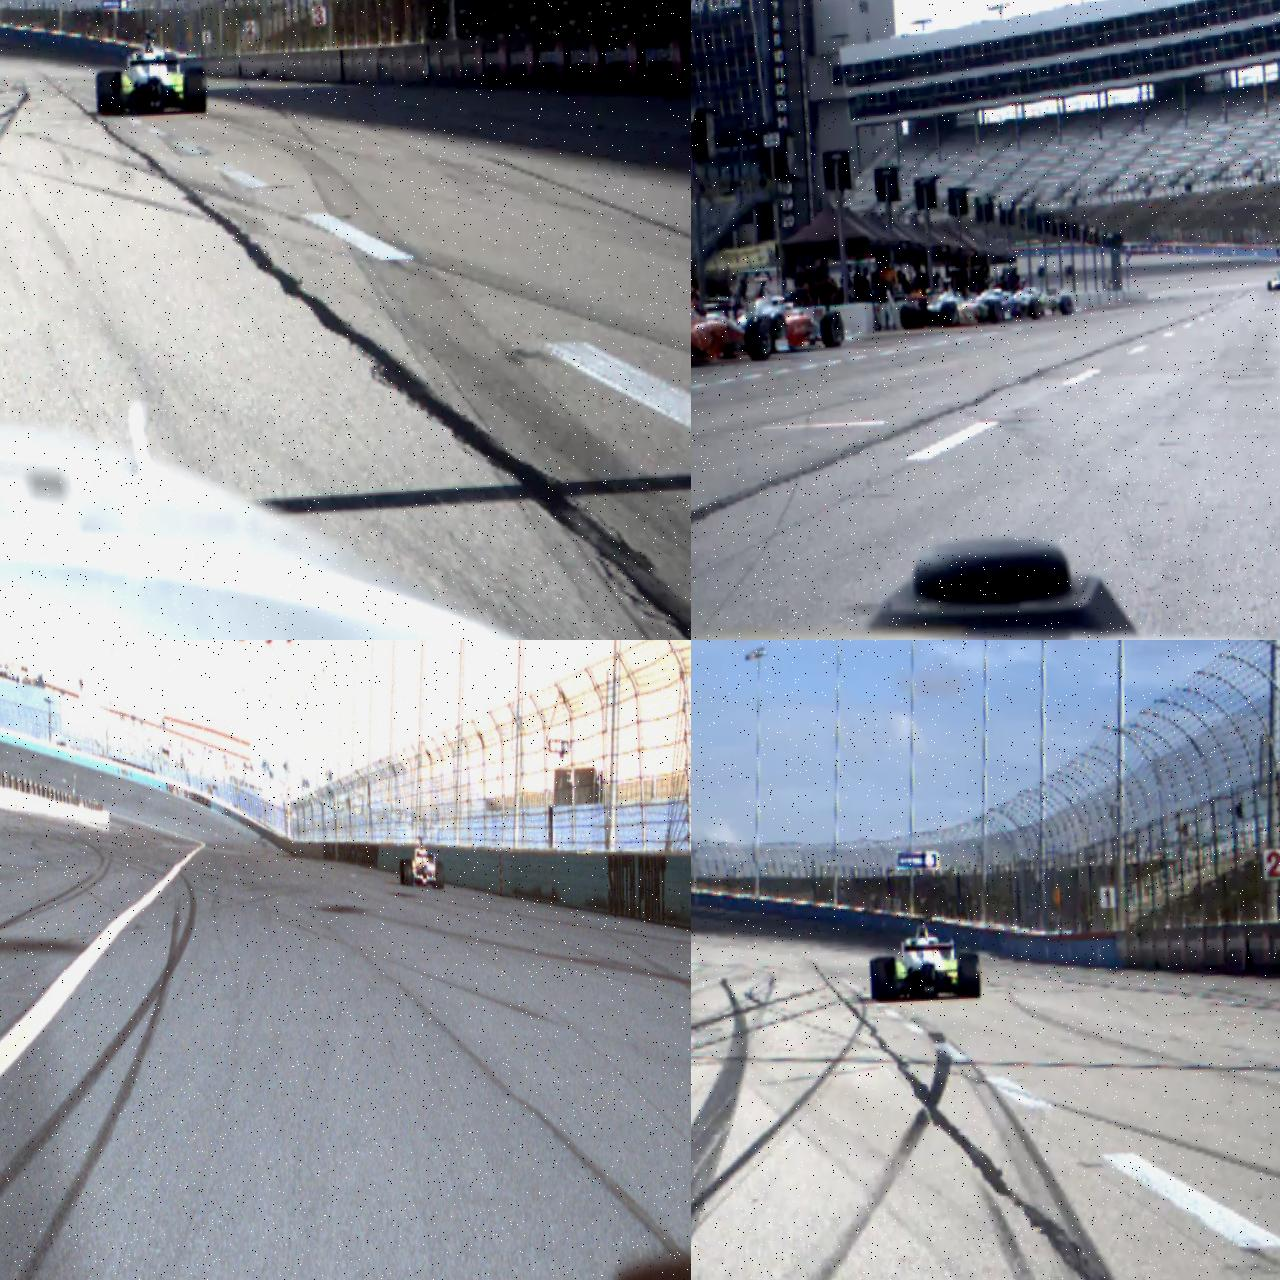AV: (91, 26, 207, 118), (867, 914, 981, 1005), (898, 273, 1005, 331), (397, 835, 444, 891), (1265, 268, 1280, 291)
Wheel: (745, 314, 776, 361), (869, 956, 898, 1003), (95, 70, 124, 113), (955, 951, 980, 999), (183, 66, 207, 113), (819, 311, 844, 347), (939, 300, 958, 327), (899, 302, 915, 331), (987, 299, 1003, 324), (1028, 297, 1042, 320), (1058, 294, 1074, 315), (435, 862, 444, 888), (403, 858, 413, 885), (399, 859, 406, 884), (1266, 280, 1272, 291)
